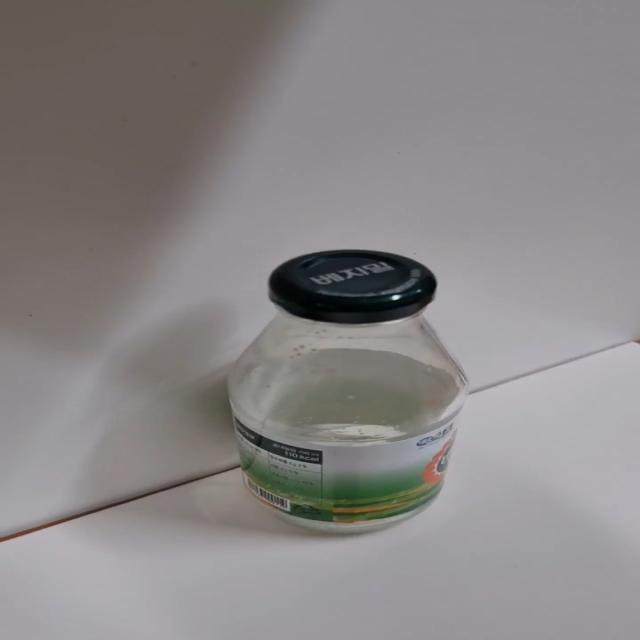Glass: (220, 244, 478, 539)
